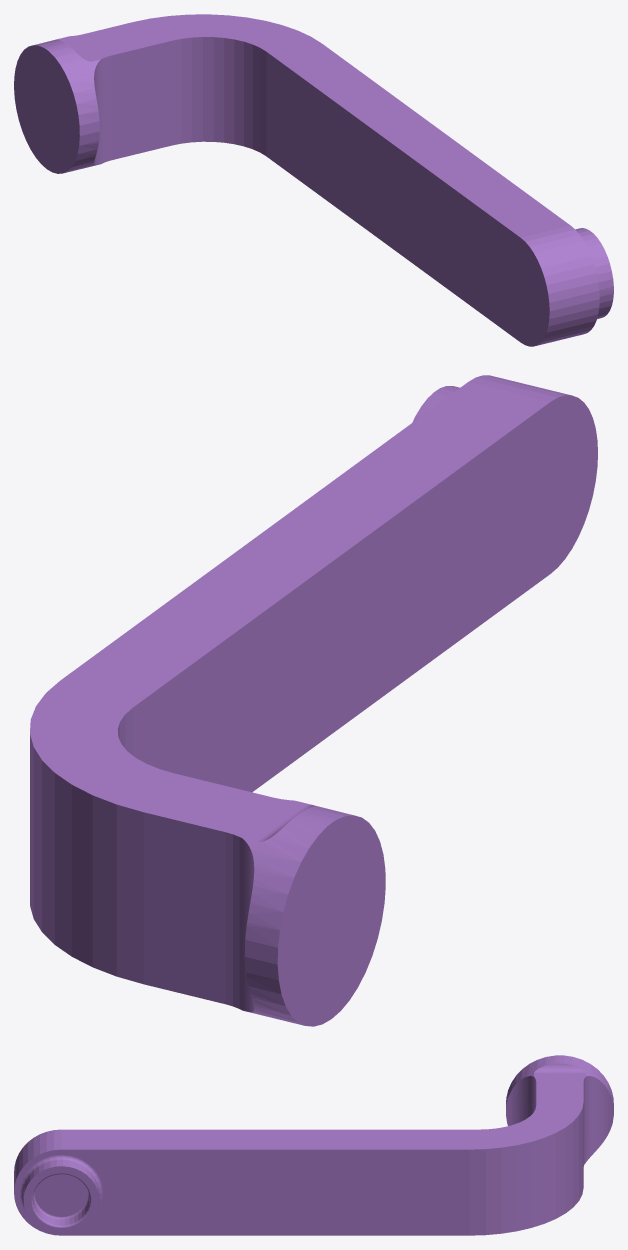
File: thigh_rev01.dae
3 renders of one model, top to bottom at view 1: azimuth 30°, elevation 25°; view 2: azimuth 150°, elevation 25°; view 3: azimuth 270°, elevation 25°, orthographic. The views are drawn at different scales.
Parts seen in each view (by area): view 1: Leg 1; view 2: Leg 1; view 3: Leg 1.
Boxes of the visible parts, <box> form: Leg 1: <box>14,14,613,346</box>; Leg 1: <box>30,375,597,1026</box>; Leg 1: <box>14,1055,613,1235</box>.
Bounding box in the file's own units: 120 × 316 × 57.
